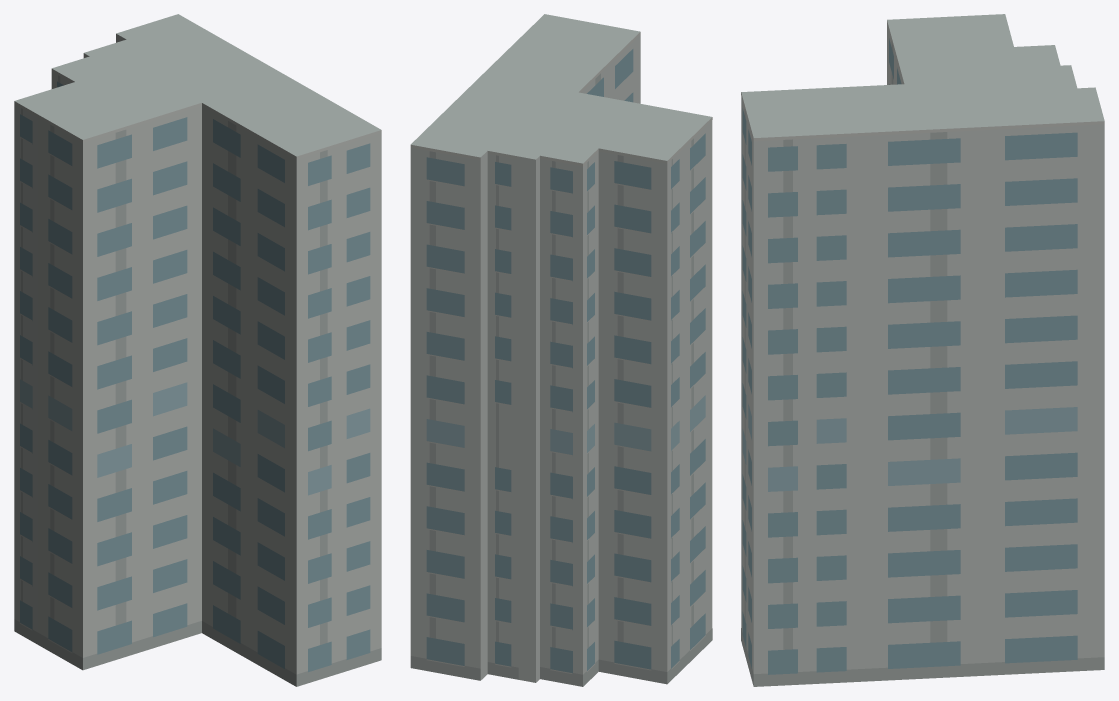
File: residential-e0a1b65d-67a0-4cdf-8f1f-2dd61ba80bc1.glb
3 renders of one model, left to right at view 1: azimuth 30°, elevation 25°; view 2: azimuth 150°, elevation 25°; view 3: azimuth 270°, elevation 25°, orthographic. The views are drawn at different scales.
Parts seen in each view (by area): view 1: residential-e0a1b65d-67a0-4cdf-8f1f-2dd61ba80bc1.tmp; view 2: residential-e0a1b65d-67a0-4cdf-8f1f-2dd61ba80bc1.tmp; view 3: residential-e0a1b65d-67a0-4cdf-8f1f-2dd61ba80bc1.tmp.
Boxes of the visible parts, x1,y1,x2,y2 form: residential-e0a1b65d-67a0-4cdf-8f1f-2dd61ba80bc1.tmp: (14, 14, 381, 686); residential-e0a1b65d-67a0-4cdf-8f1f-2dd61ba80bc1.tmp: (410, 14, 712, 686); residential-e0a1b65d-67a0-4cdf-8f1f-2dd61ba80bc1.tmp: (741, 14, 1104, 686).
Bounding box in the file's own units: 20.39 × 42 × 25.23.
